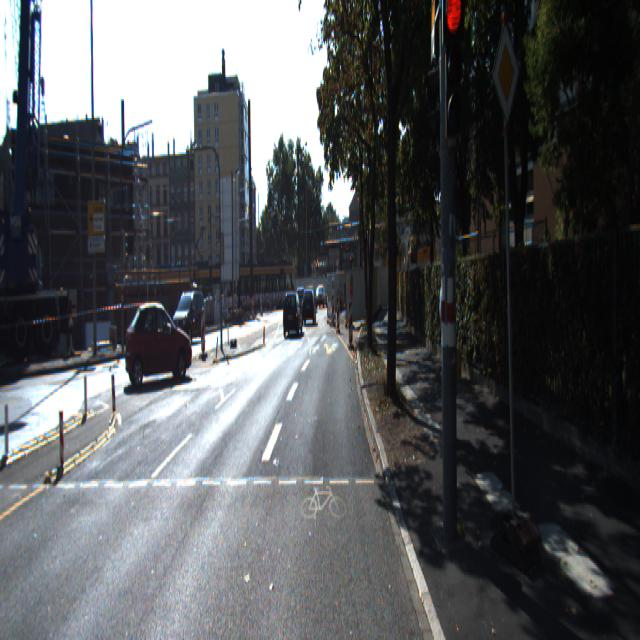Car: (125, 298, 194, 386), (172, 283, 206, 340), (282, 286, 302, 332), (302, 283, 316, 321)
